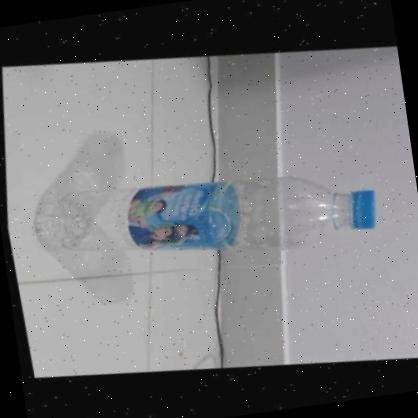bottle: (38, 146, 380, 278)
cap: (347, 184, 380, 232)
label: (122, 177, 242, 259)
